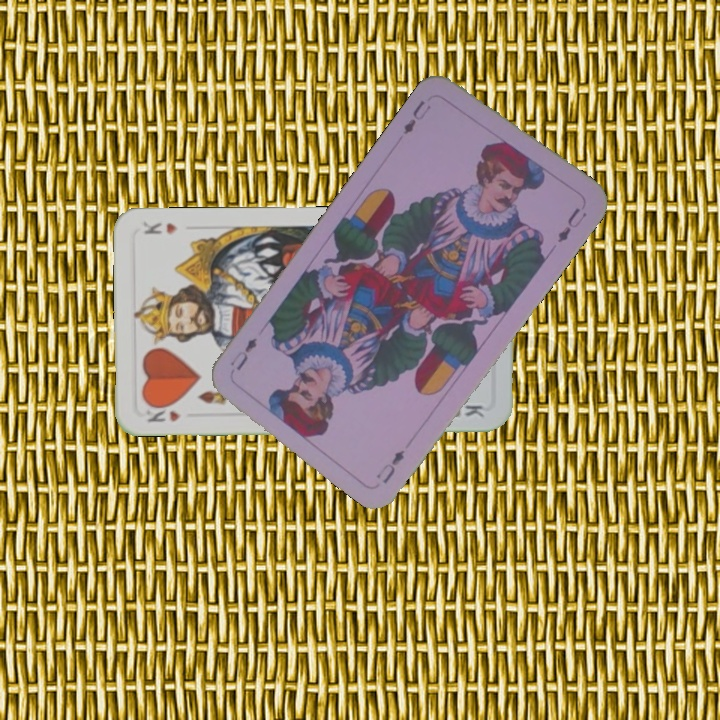EU: (372, 445, 408, 486), (399, 96, 434, 137)
HK: (139, 400, 183, 425)
